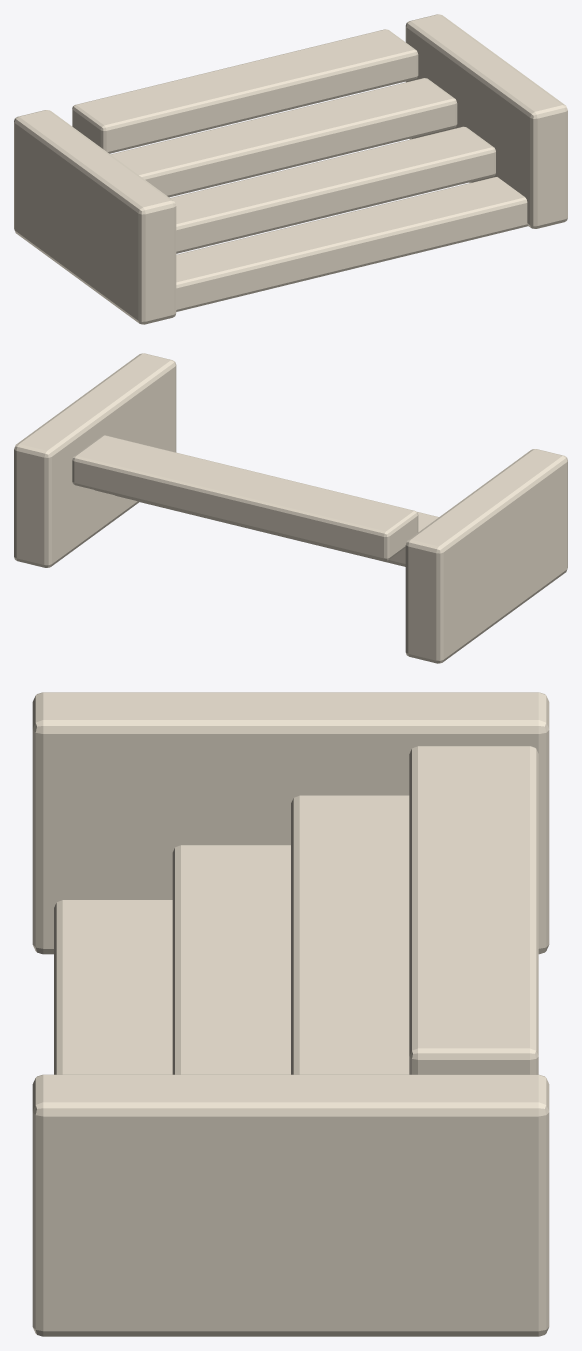
The model's file is vg_greek_steps.glb.
3 renders of one model, top to bottom at view 1: azimuth 30°, elevation 25°; view 2: azimuth 150°, elevation 25°; view 3: azimuth 270°, elevation 25°, orthographic. The views are drawn at different scales.
Visible parts, largest first — view 1: vg_greek_steps; view 2: vg_greek_steps; view 3: vg_greek_steps.
Part boxes in pixels (bbox=[...]): vg_greek_steps: bbox=[14, 14, 567, 324]; vg_greek_steps: bbox=[14, 353, 567, 663]; vg_greek_steps: bbox=[32, 692, 549, 1336].
Bounding box in the file's own units: 4.6 × 1.2 × 2.4.
